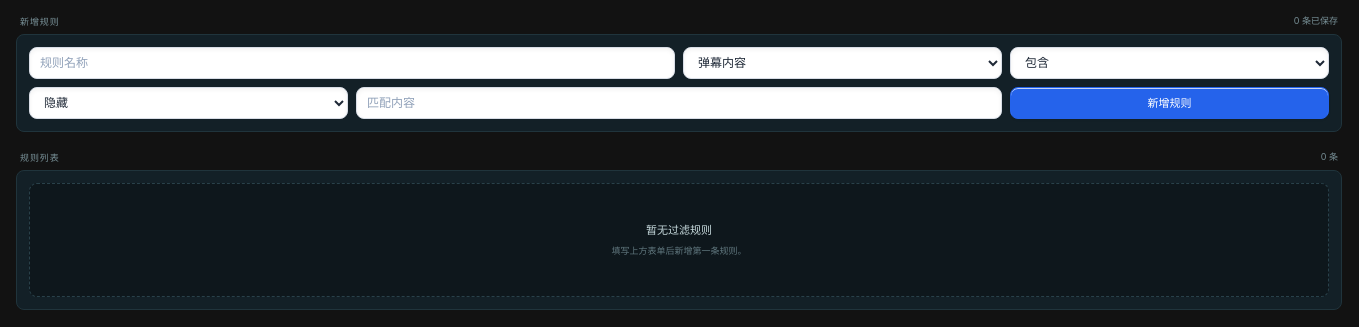
Test: keeps text operators and constrains fan medal rules
Select "弹幕内容" in the dropdown named "规则目标" at (842, 63), box [683,47,1002,79]
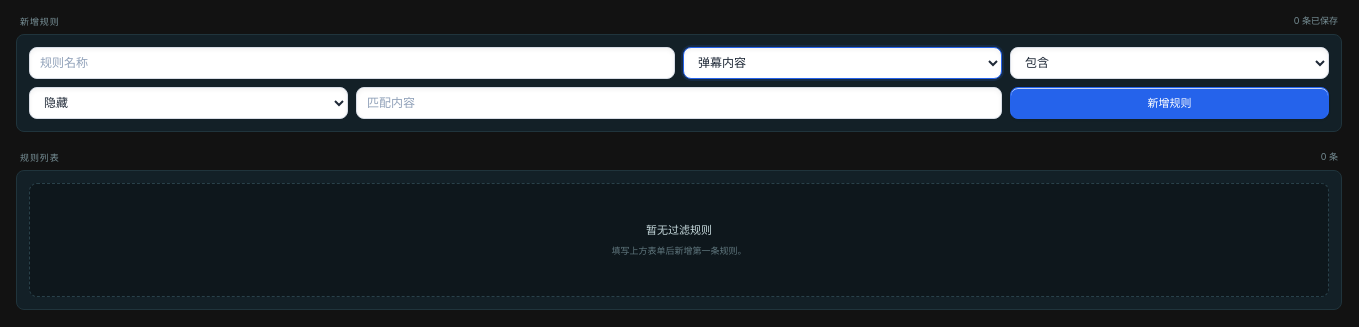
Select "结尾是" in the dropdown named "匹配方式" at (1170, 63), box [1010,47,1329,79]
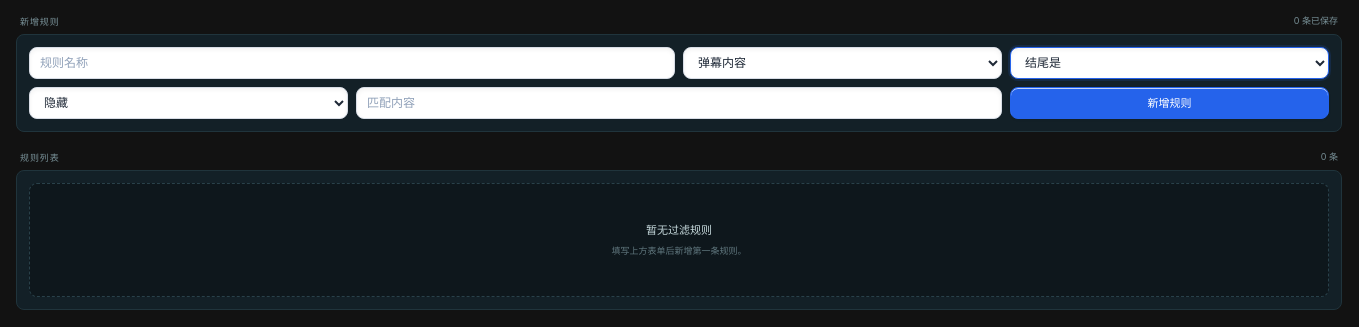
Select "本房粉丝牌" in the dropdown named "规则目标" at (842, 63), box [683,47,1002,79]
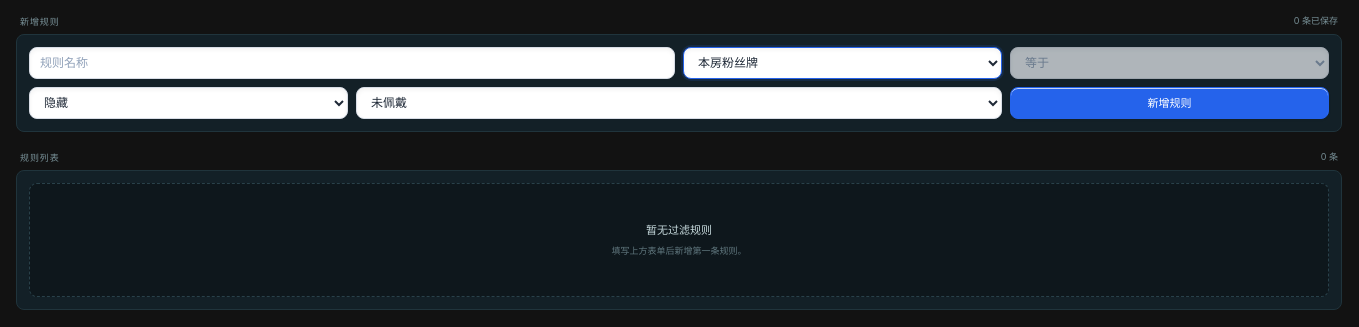
Expected: the dropdown named "粉丝牌状态" shows "未佩戴", [356,87,1002,119]
